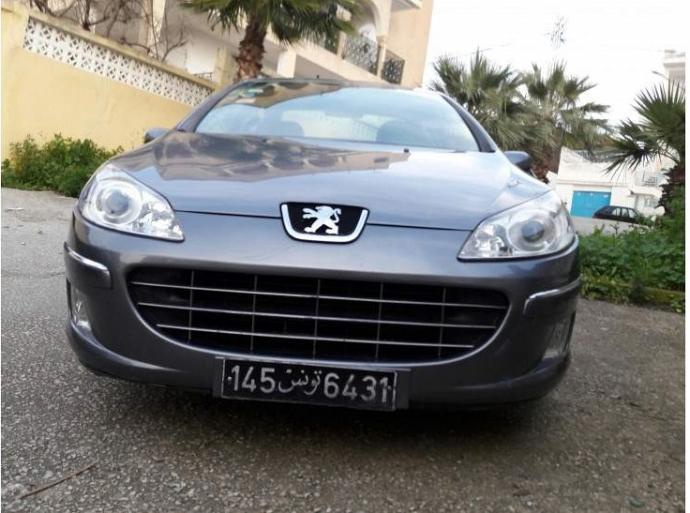LP: (218, 356, 399, 414)
